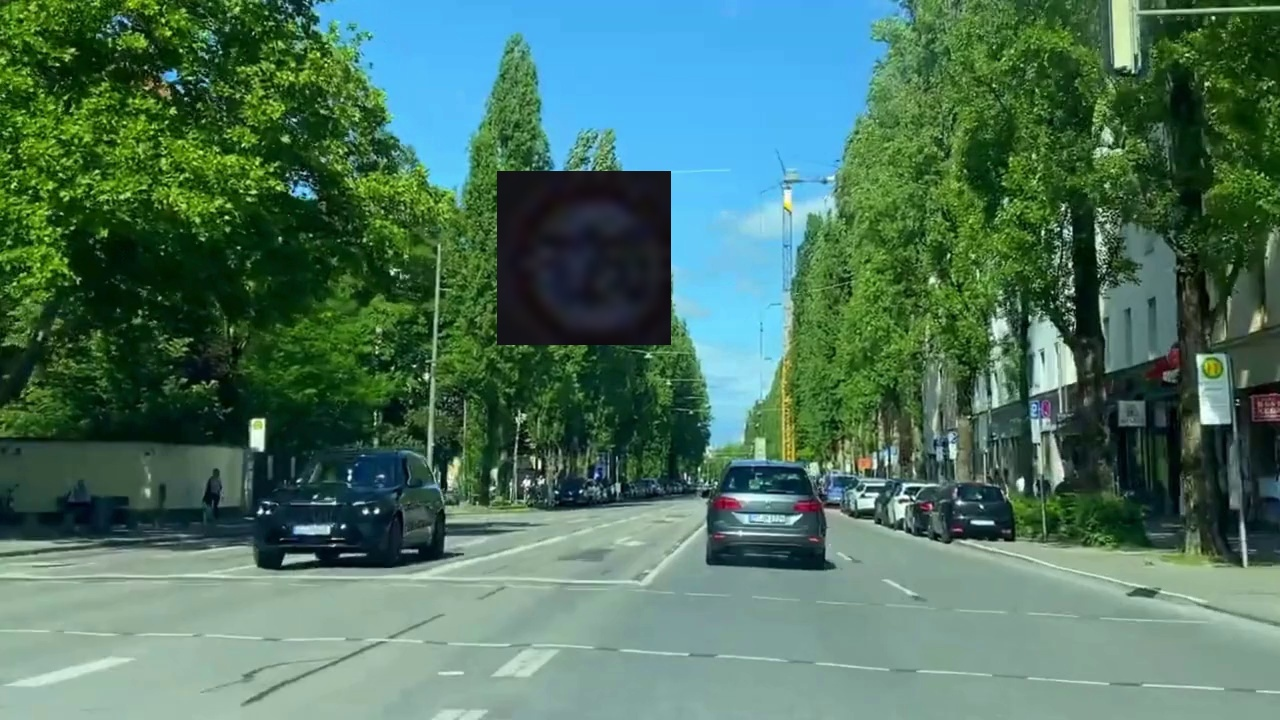Speed 120: (497, 171, 671, 345)
